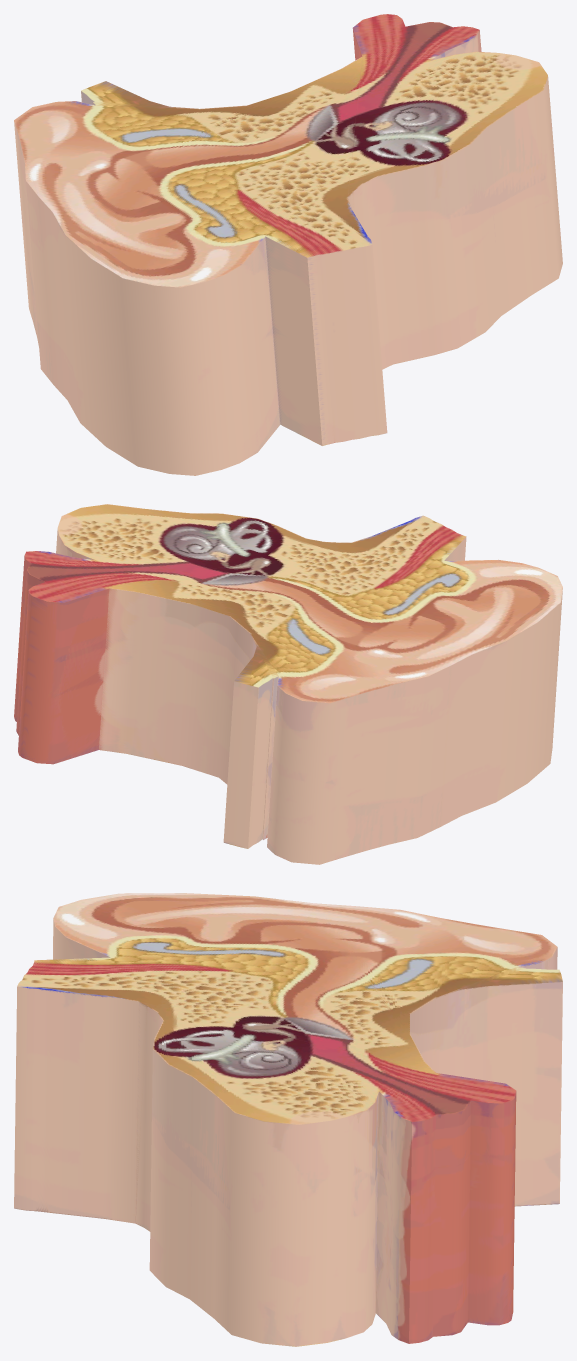
Rendered from bagian-bagian_telinga.glb.
The picture shows the model from 3 angles, top to bottom: view 1: azimuth 30°, elevation 25°; view 2: azimuth 150°, elevation 25°; view 3: azimuth 270°, elevation 25°; orthographic projection. The views are drawn at different scales.
Visible parts, largest first — view 1: root_Material_82_0; view 2: root_Material_82_0; view 3: root_Material_82_0.
Boxes of the visible parts, <box> form: root_Material_82_0: <box>14,14,562,475</box>; root_Material_82_0: <box>14,504,562,864</box>; root_Material_82_0: <box>14,893,562,1346</box>.
Bounding box in the file's own units: 509 × 217 × 420.
Materials: 1 (1 with a texture image).
